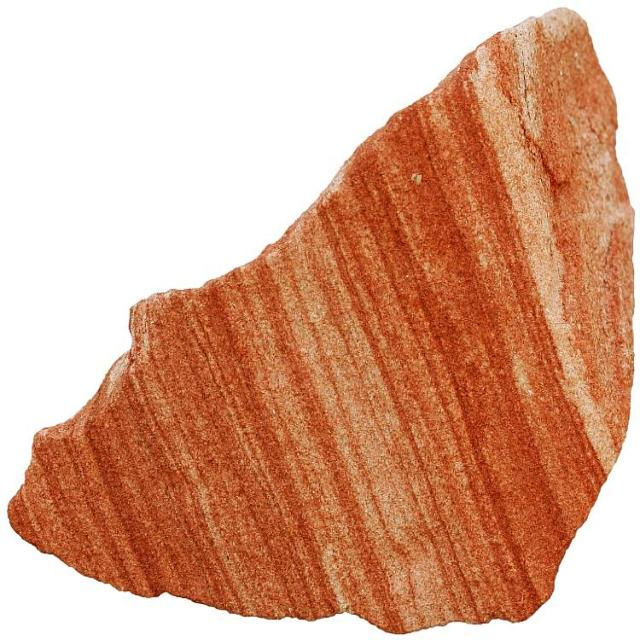Sedimentary: (2, 2, 632, 638)
